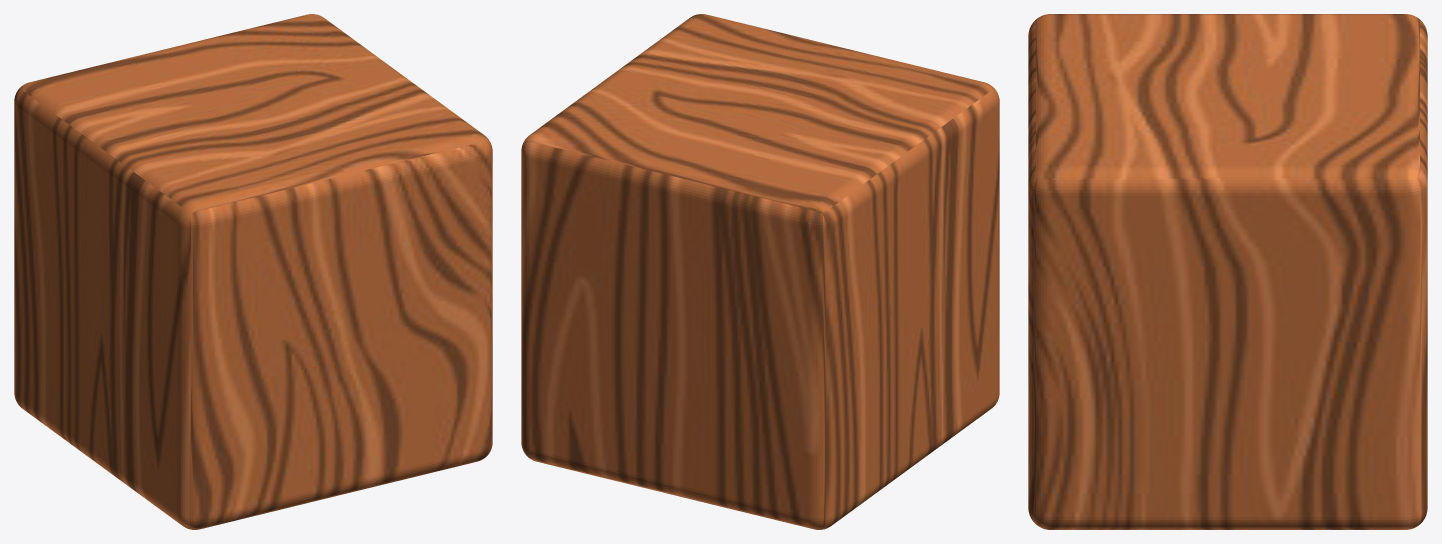
The model's file is wood_box.fbx.
3 renders of one model, left to right at view 1: azimuth 30°, elevation 25°; view 2: azimuth 150°, elevation 25°; view 3: azimuth 270°, elevation 25°, orthographic. The views are drawn at different scales.
Parts seen in each view (by area): view 1: Cube; view 2: Cube; view 3: Cube.
Part boxes in pixels (x1,y1,x2,y2): Cube: (14, 14, 492, 529); Cube: (521, 14, 999, 529); Cube: (1028, 14, 1427, 529).
Bounding box in the file's own units: 200 × 200 × 200.
